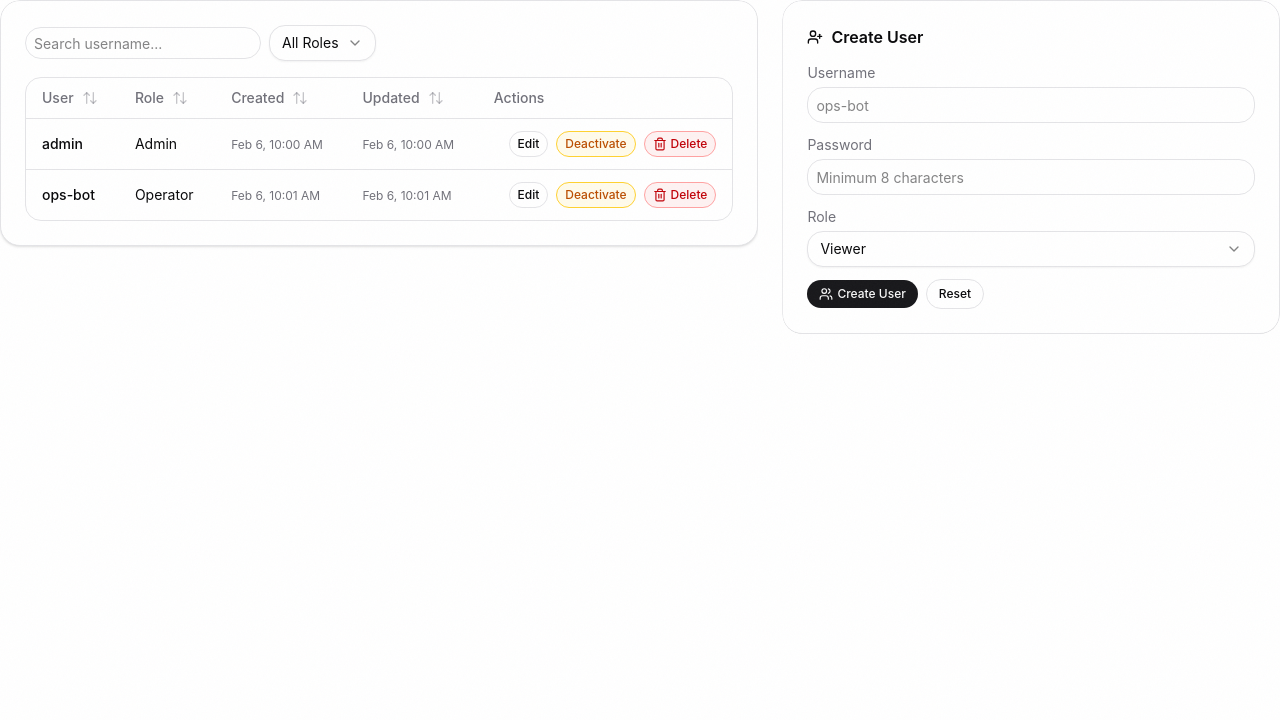
UsersPanel › shows error message when removeUser mutation fails
The width and height of the screenshot is (1280, 720).
Expected: the row that starts with "admin" is shown, [26,118,732,169]
Click the 1st button "Delete" at [680, 144], box [644,130,716,156]
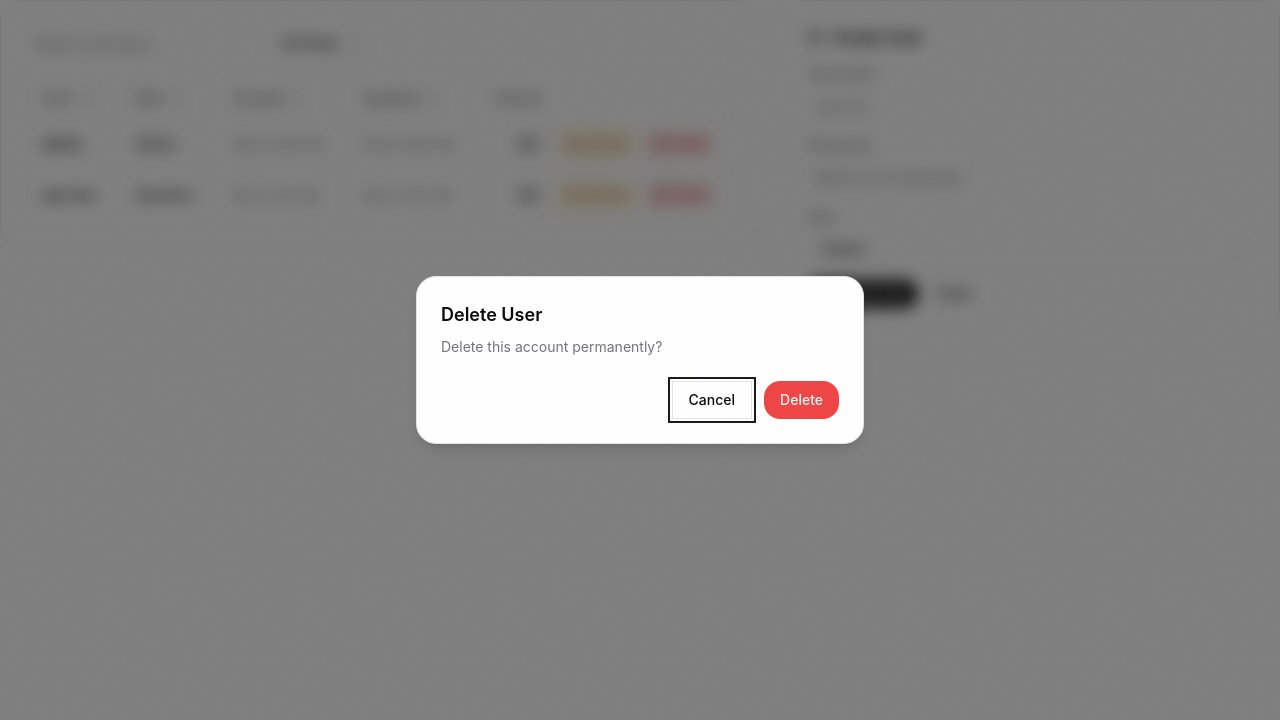
Click the button "Delete" at [802, 400], box [764,381,839,419]
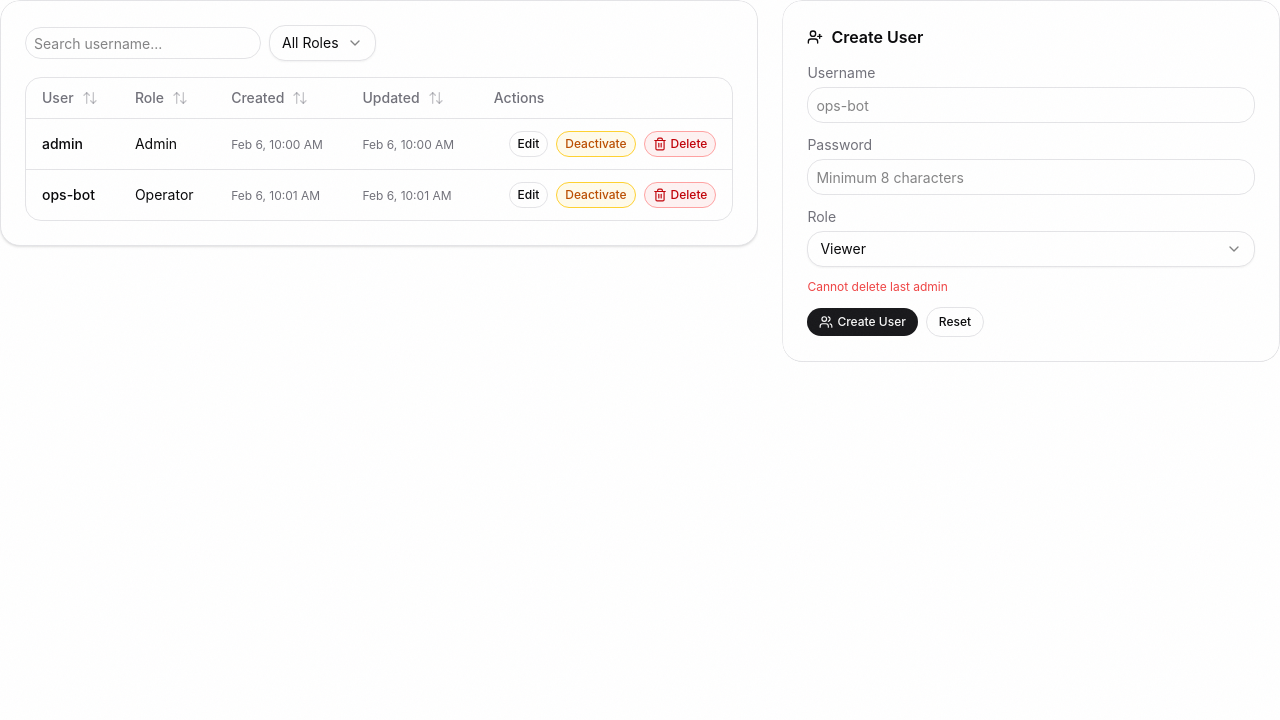
Expected: the text "Cannot delete last admin" is shown, [807,279,948,294]
